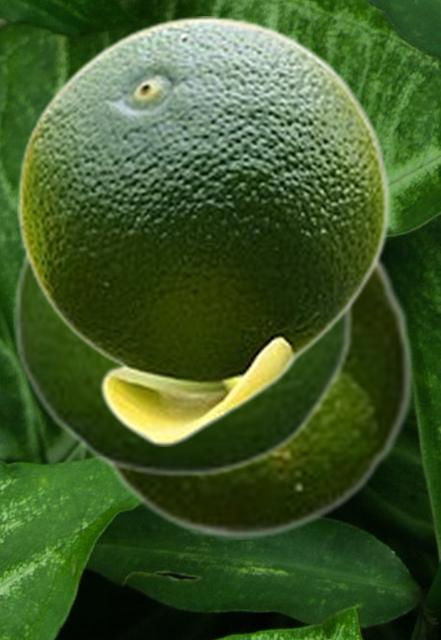calamansi: (17, 16, 389, 445), (99, 253, 414, 538), (13, 246, 354, 477)
